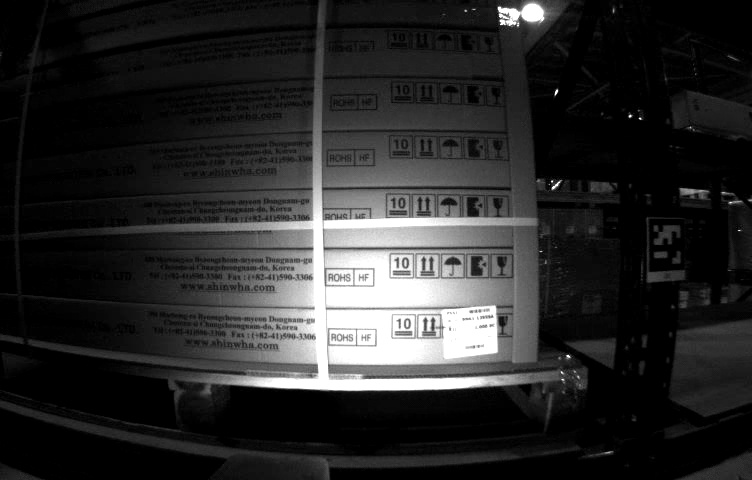True Barcode: (437, 306, 500, 356)
